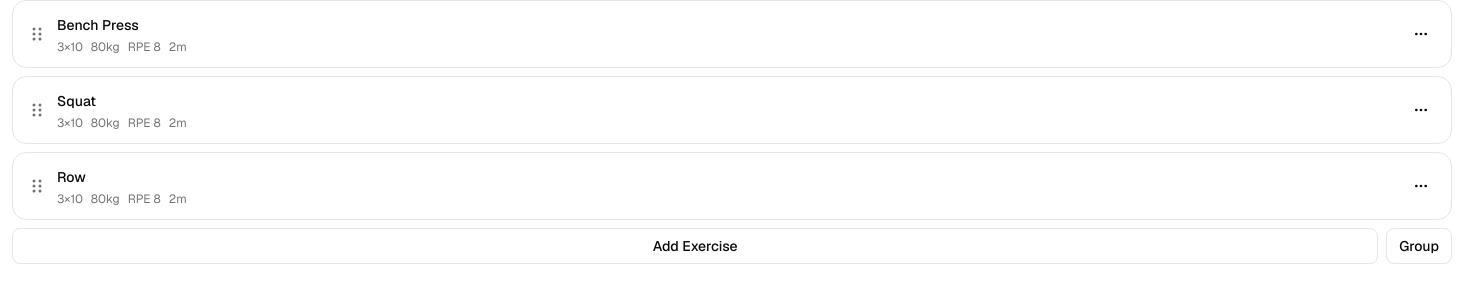
SlotList superset UI › create superset (AC11) › shows "Create Superset" button when 2+ slots selected
Click the button "Group".
click(1419, 246)  # box x1=1386 y1=228 x2=1452 y2=264
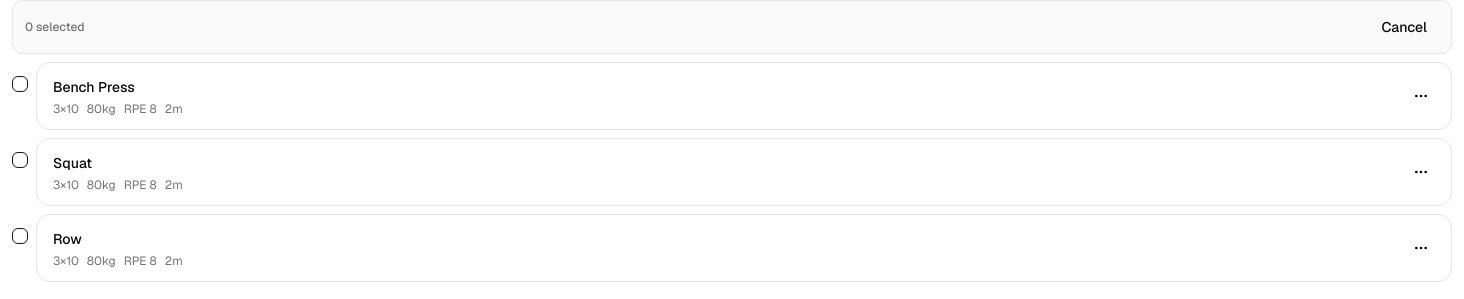
Select 2 checkboxes
Click the checkbox named "Select Bench Press".
click(20, 84)  # box x1=12 y1=76 x2=28 y2=92
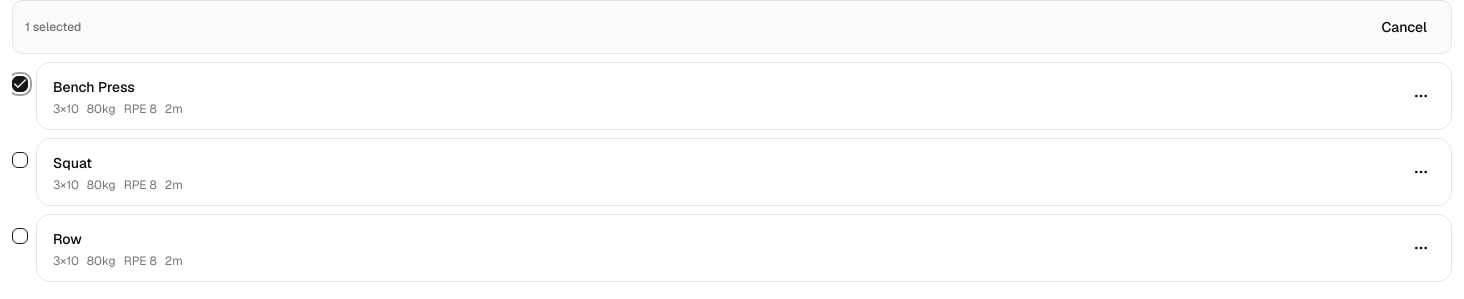
Click the checkbox named "Select Squat".
click(20, 160)  # box x1=12 y1=152 x2=28 y2=168
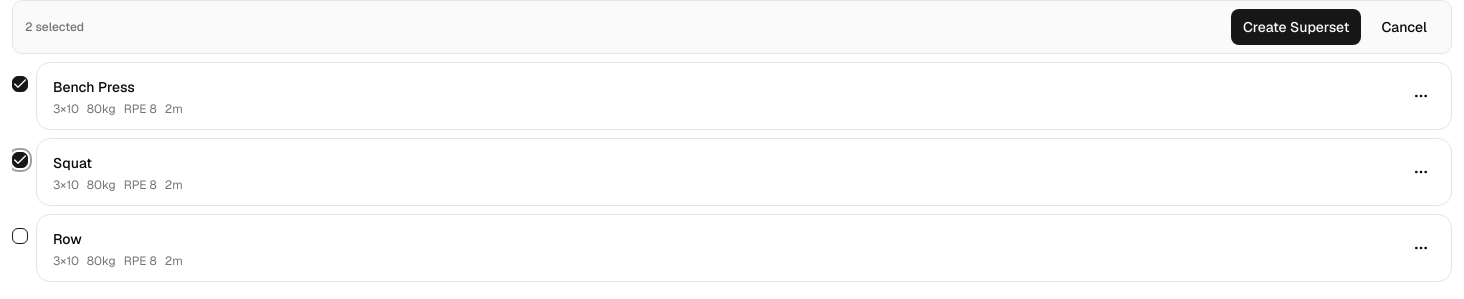
Expected: the button "Create Superset" is shown, x1=1231 y1=9 x2=1361 y2=45
